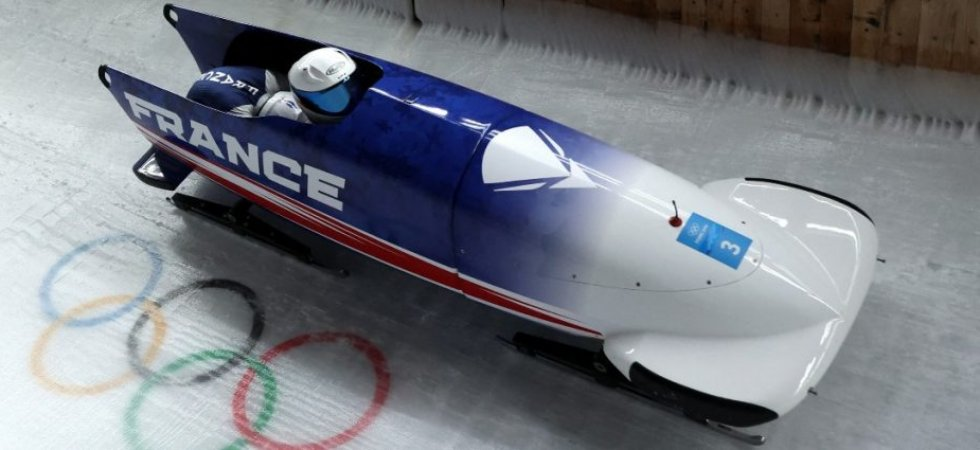Bobsleigh: (98, 4, 878, 434)
